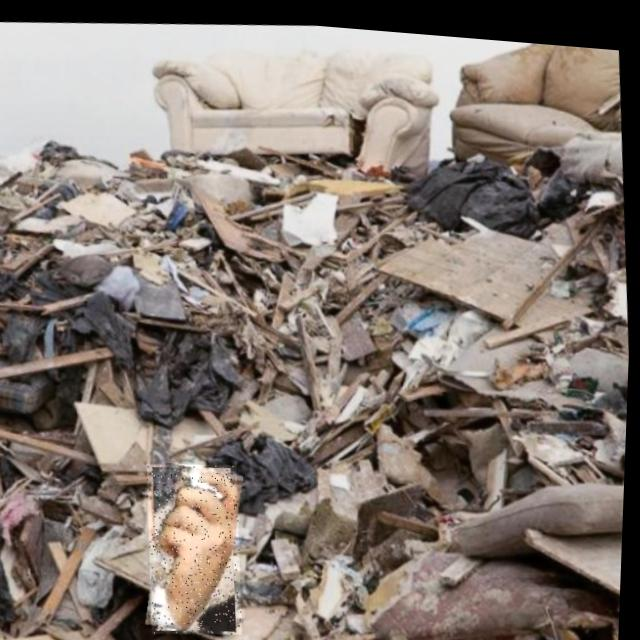Person in Rubble: (144, 454, 252, 636)
